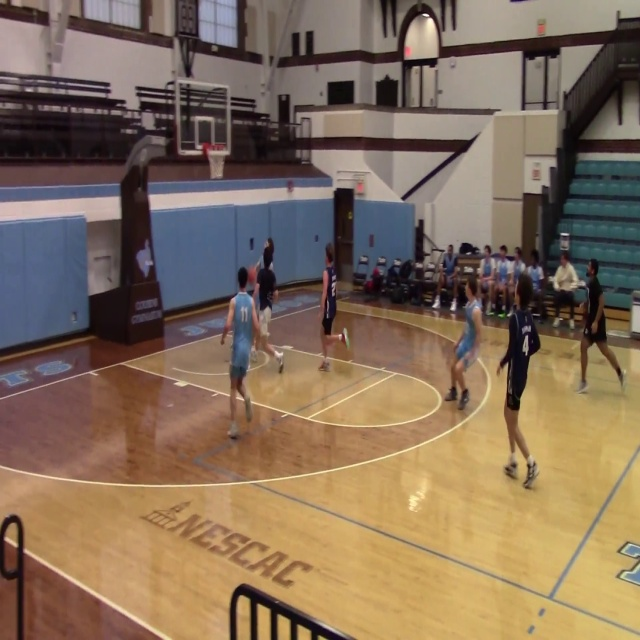Basketball: (516, 273, 533, 301)
